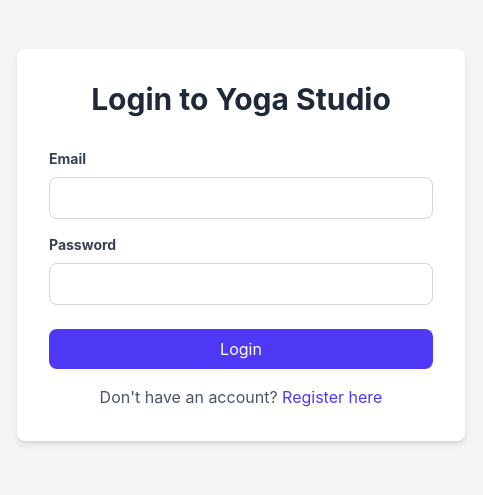
Login page › shows the server message and re-enables the button when login fails
Type " member@example.com " into the field labelled "Email".
click(241, 198); type(" member@example.com ")  # box top-left (49, 177), bottom-right (433, 219)
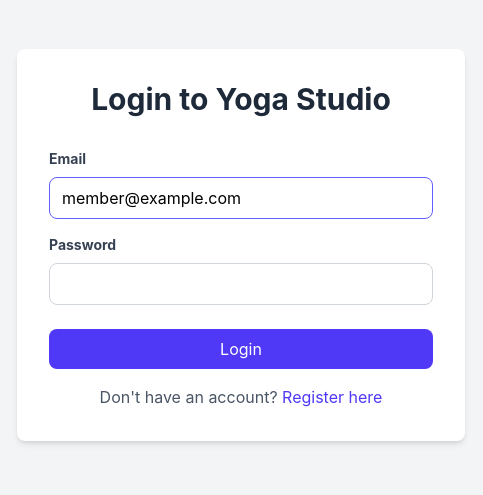
Type "secret" into the password field labelled "Password".
click(241, 284); type("secret")  # box top-left (49, 263), bottom-right (433, 305)
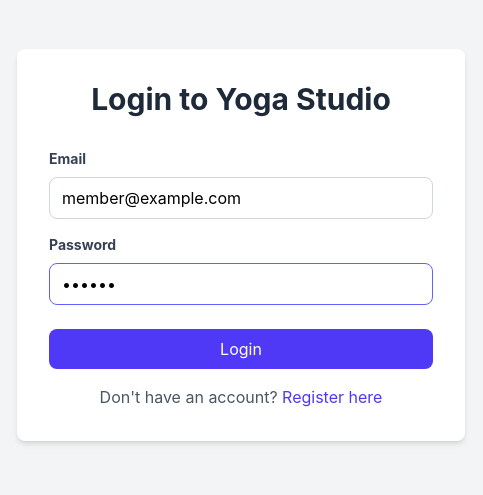
Click the button "Login".
click(241, 349)  # box top-left (49, 329), bottom-right (433, 369)
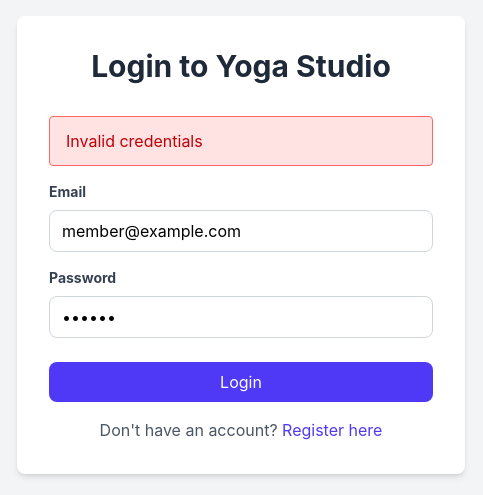
Expected: the button "Login" is shown, top-left (49, 362), bottom-right (433, 402)
Expected: the text "Invalid credentials" is shown, top-left (49, 116), bottom-right (433, 166)
